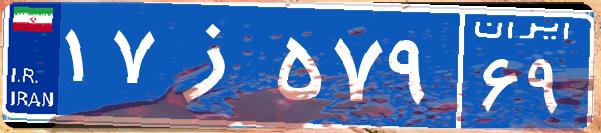1: (57, 26, 110, 107)
5: (273, 28, 330, 110)
6: (475, 38, 525, 113)
7: (330, 28, 385, 110), (110, 28, 158, 105)
9: (385, 28, 445, 110), (525, 38, 570, 115)
ز: (158, 15, 273, 115)
